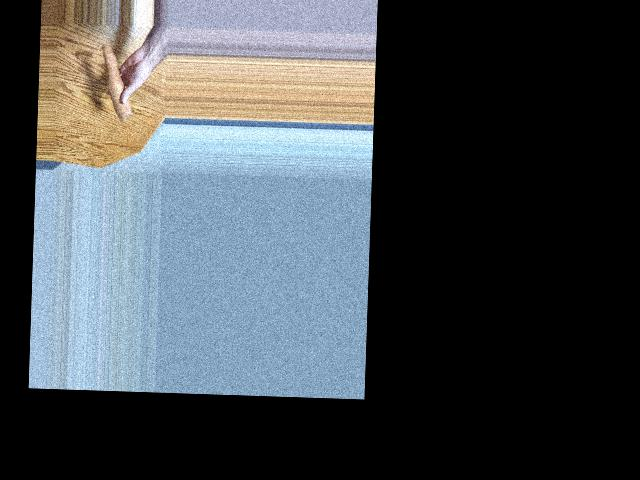sweet_potato: (105, 40, 129, 119)
